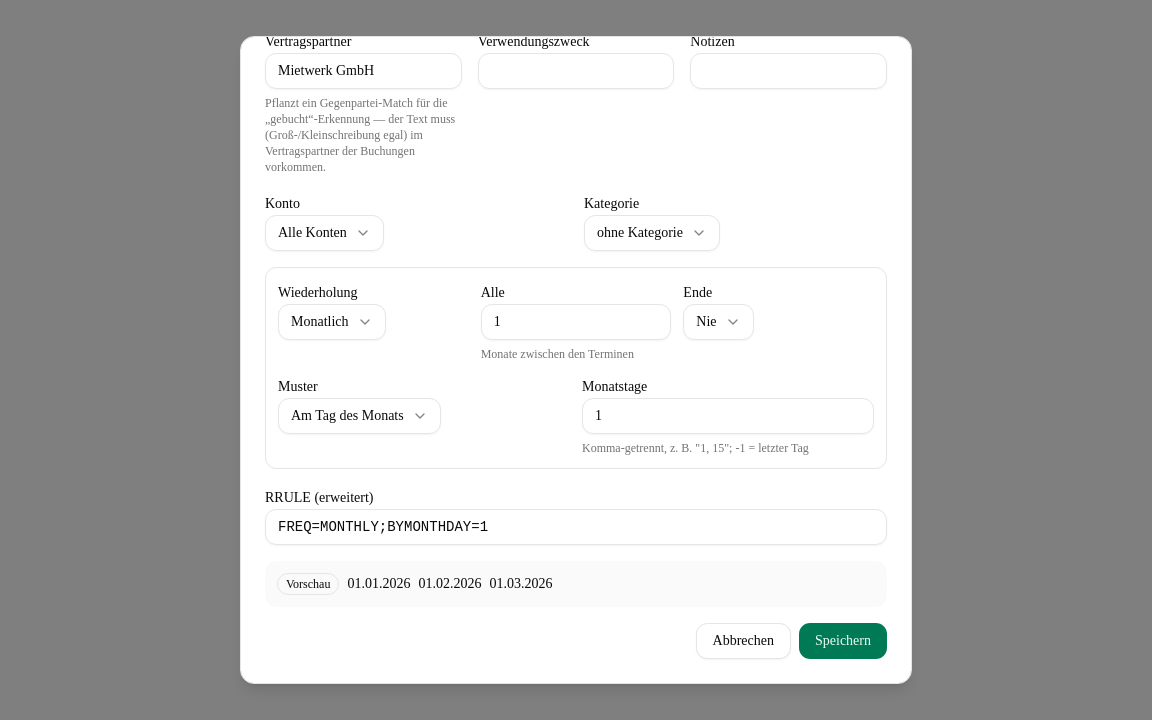
it: plan dialog: raw RRULE mode validates exactly like the server › a valid but unproductive rule (UNTIL before dtstart) disarms save too
This screenshot has width=1152, height=720.
(page scrolled)
Replace the text in the field labelled "RRULE (erweitert)" with "FREQ=DAILY;UNTIL=20200101T120000Z": (576,527) [265,509,887,545]
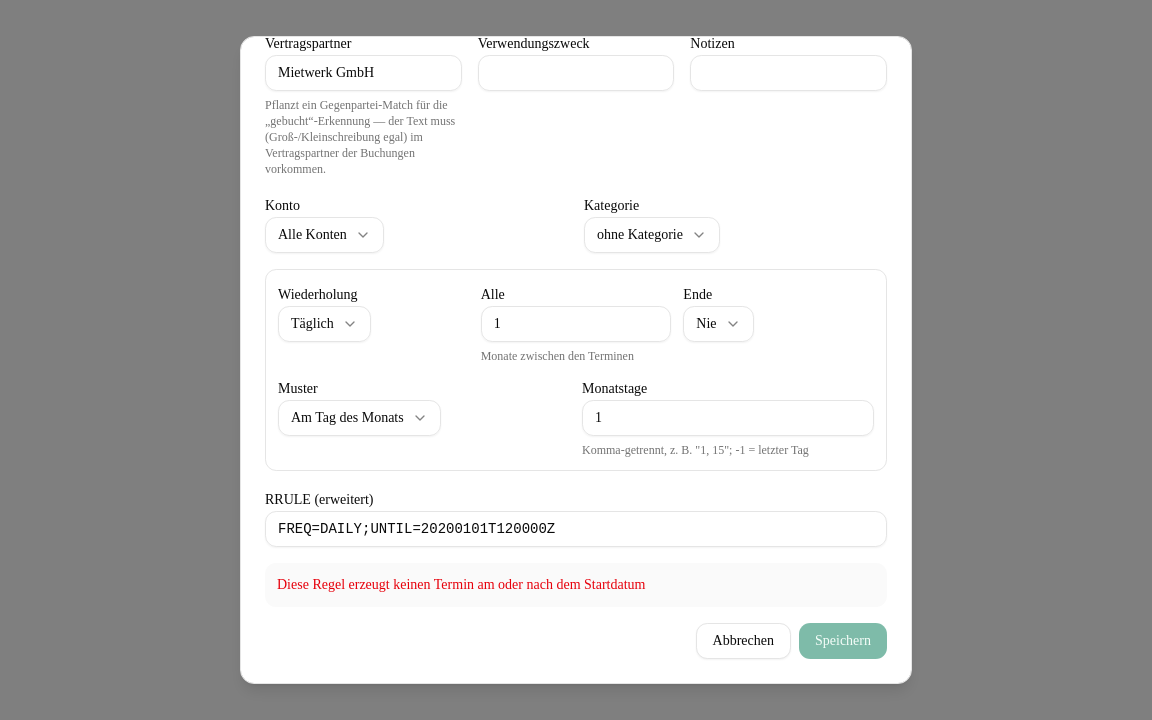
Result: the text "erzeugt keinen Termin" is shown at [277,577,646,592]
Result: the button "Speichern" is disabled at [799,623,887,659]
